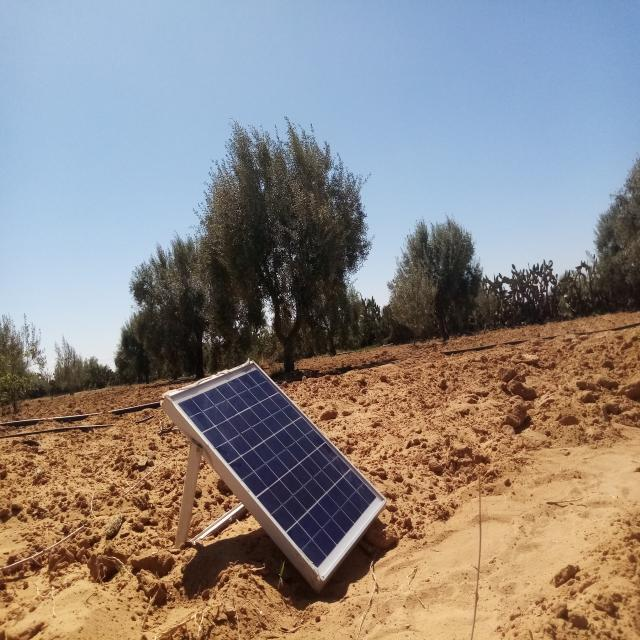no faulty: (168, 362, 386, 580)
